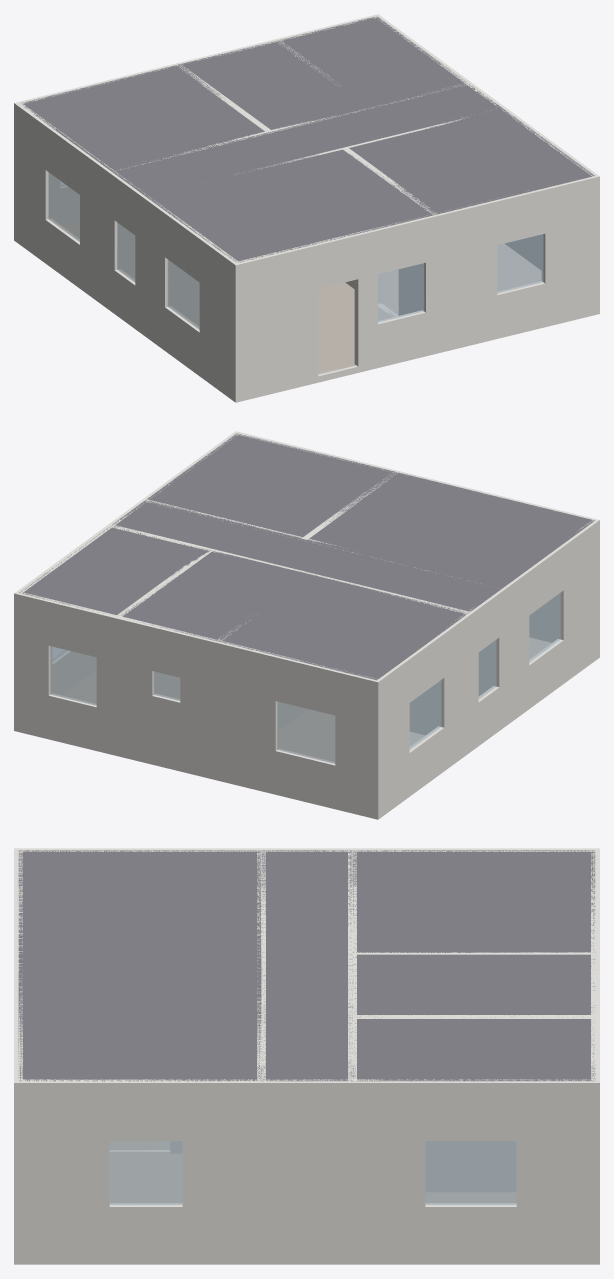
Rendered from 2bhk.glb.
3 renders of one model, top to bottom at view 1: azimuth 30°, elevation 25°; view 2: azimuth 150°, elevation 25°; view 3: azimuth 270°, elevation 25°, orthographic. The views are drawn at different scales.
Parts seen in each view (by area): view 1: f0_wall_h_0_0, f0_wall_v_0_0, f0_roof_living, f0_roof_bed1, f0_roof_kitchen, f0_roof_hall, f0_roof_bed2, f0_roof_bath, f0_floor_living, f0_wall_h_9.5_0, f0_glass.001, f0_glass (+9 smaller); view 2: f0_wall_h_9.5_0, f0_wall_v_0_0, f0_roof_living, f0_roof_bed1, f0_roof_kitchen, f0_roof_hall, f0_roof_bath, f0_roof_bed2, f0_glass.002, f0_wall_h_5.5_0, f0_wall_v_9_0, f0_wall_h_0_0 (+9 smaller); view 3: f0_wall_v_9_0, f0_roof_living, f0_roof_kitchen, f0_roof_bed1, f0_roof_hall, f0_roof_bed2, f0_roof_bath, f0_glass.009, f0_wall_v_6.5_5.5, f0_glass.008, f0_floor_kitchen, f0_wall_h_5.5_0 (+7 smaller).
Part boxes in pixels (x1,y1,x2,y2): f0_wall_h_0_0: (232,174,599,402); f0_wall_v_0_0: (15,103,239,400); f0_roof_living: (145,149,435,262); f0_roof_bed1: (22,64,264,170); f0_roof_kitchen: (349,108,594,214); f0_roof_hall: (111,84,502,195); f0_roof_bed2: (278,16,467,107); f0_roof_bath: (178,40,368,129); f0_floor_living: (188,282,394,374); f0_wall_h_9.5_0: (14,14,380,242); f0_glass.001: (497,234,543,293); f0_glass: (378,263,424,322); f0_wall_h_9.5_0: (14,591,381,819); f0_wall_v_0_0: (379,520,598,816); f0_roof_living: (308,472,594,587); f0_roof_bed1: (218,574,468,680); f0_roof_kitchen: (145,433,395,538); f0_roof_hall: (112,500,502,612); f0_roof_bath: (121,550,309,641); f0_roof_bed2: (19,526,208,614); f0_glass.002: (277,702,335,763); f0_wall_h_5.5_0: (106,524,473,751); f0_wall_v_9_0: (18,433,237,695); f0_wall_h_0_0: (233,431,599,659); f0_wall_v_9_0: (18,1079,595,1264); f0_roof_living: (18,850,261,978); f0_roof_kitchen: (18,978,261,1081); f0_roof_bed1: (352,850,595,952); f0_roof_hall: (261,850,352,1081); f0_roof_bed2: (352,1017,595,1081); f0_roof_bath: (353,953,595,1016); f0_glass.009: (425,1141,516,1205); f0_wall_v_6.5_5.5: (353,1015,595,1192); f0_glass.008: (109,1141,182,1205); f0_floor_kitchen: (109,1152,182,1202); f0_wall_h_5.5_0: (348,848,356,1264).
Bounding box in the file's own units: 9.15 × 3.3 × 9.65.
